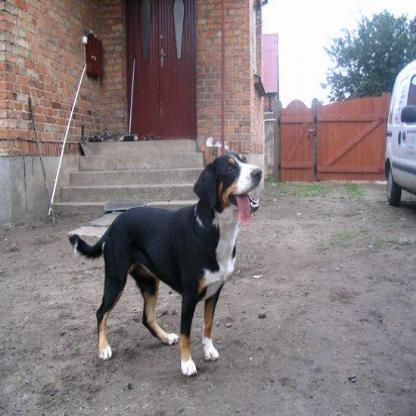EntleBucher: (67, 152, 262, 374)
